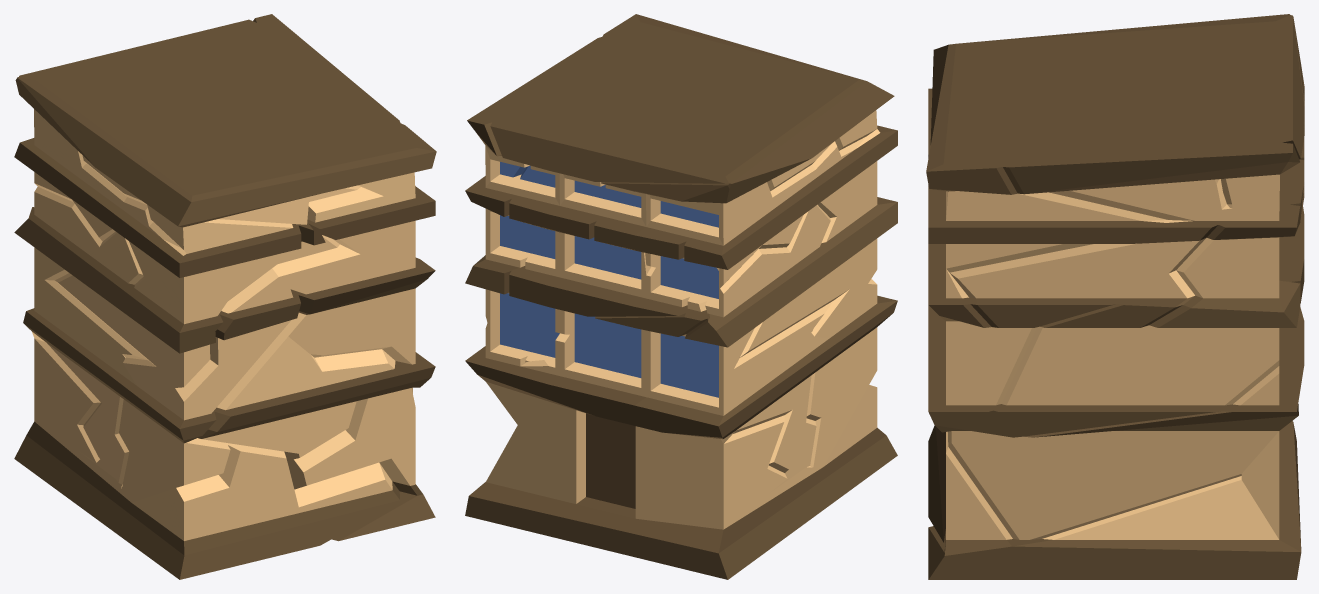
The model's file is NewestBuilding1.fbx.
3 views of the same model, side by side, from view 1: azimuth 30°, elevation 25°; view 2: azimuth 150°, elevation 25°; view 3: azimuth 270°, elevation 25° (orthographic). The views are drawn at different scales.
Parts seen in each view (by area): view 1: Cube.001; view 2: Cube.001; view 3: Cube.001.
Part boxes in pixels (bbox=[...]): Cube.001: bbox=[14, 14, 436, 579]; Cube.001: bbox=[465, 14, 897, 579]; Cube.001: bbox=[926, 14, 1304, 579].
Size of the model in its own units: 612 by 876 by 704.
